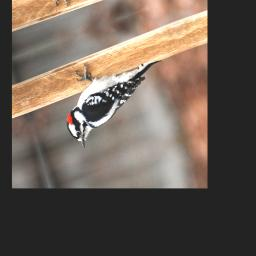Woodpecker: (52, 38, 176, 152)
